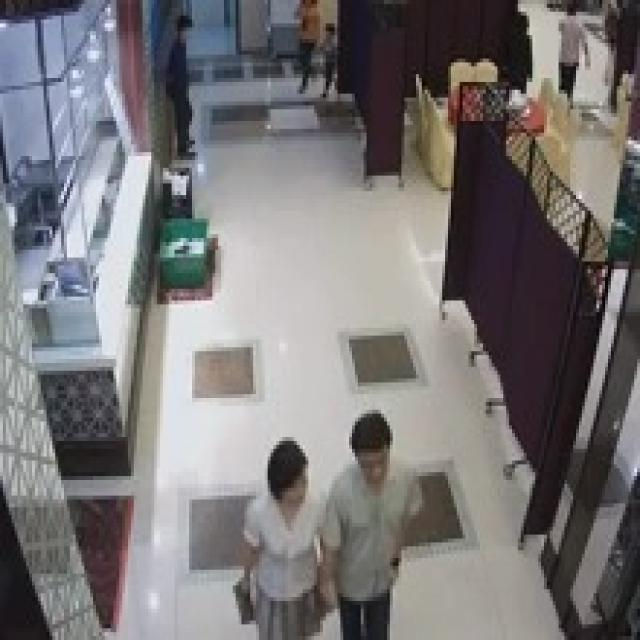normal: (329, 401, 409, 640), (242, 420, 324, 640), (157, 9, 214, 166)
